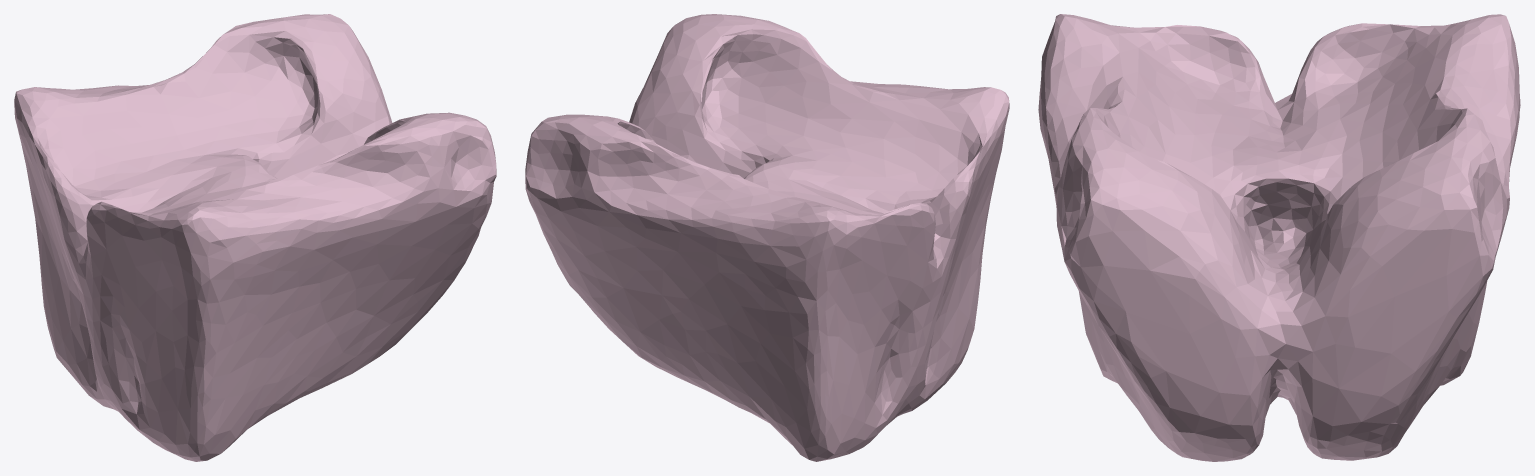
3 views of the same model, side by side, from view 1: azimuth 30°, elevation 25°; view 2: azimuth 150°, elevation 25°; view 3: azimuth 270°, elevation 25° (orthographic). The views are drawn at different scales.
Parts seen in each view (by area): view 1: 1048.obj; view 2: 1048.obj; view 3: 1048.obj.
Boxes of the visible parts, x1,y1,x2,y2 form: 1048.obj: [14, 14, 496, 461]; 1048.obj: [525, 14, 1009, 461]; 1048.obj: [1038, 14, 1520, 461].
Size of the model in its own units: 1951 by 1603 by 1813.
